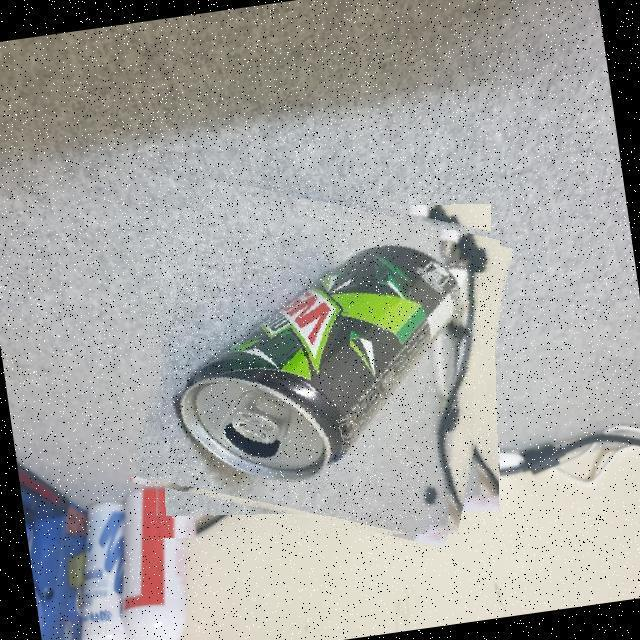recyclable: (146, 186, 500, 538)
